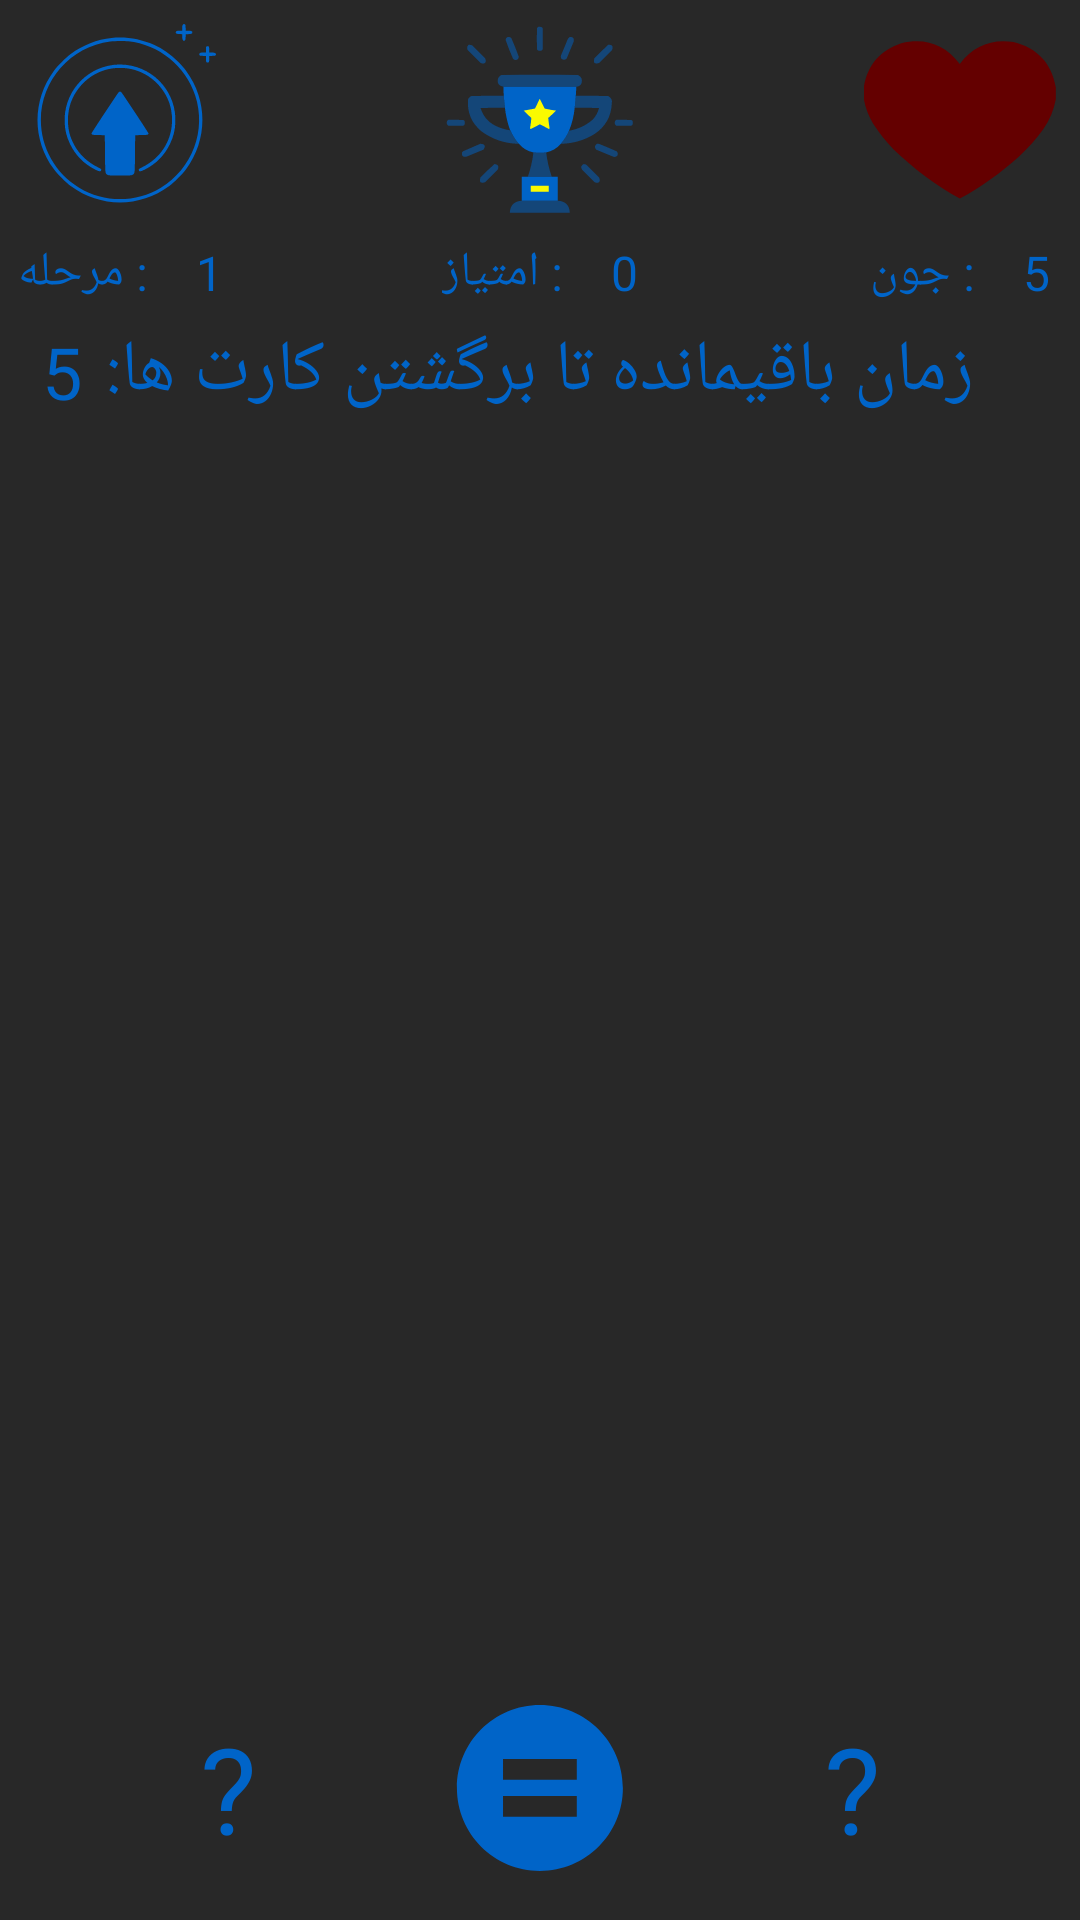

Icon bounding boxes for this 1080w x 1920h phone screenshot, format (x1,y1,x2,y2):
Health: (864,41,1056,198)
Level: (37,24,216,203)
